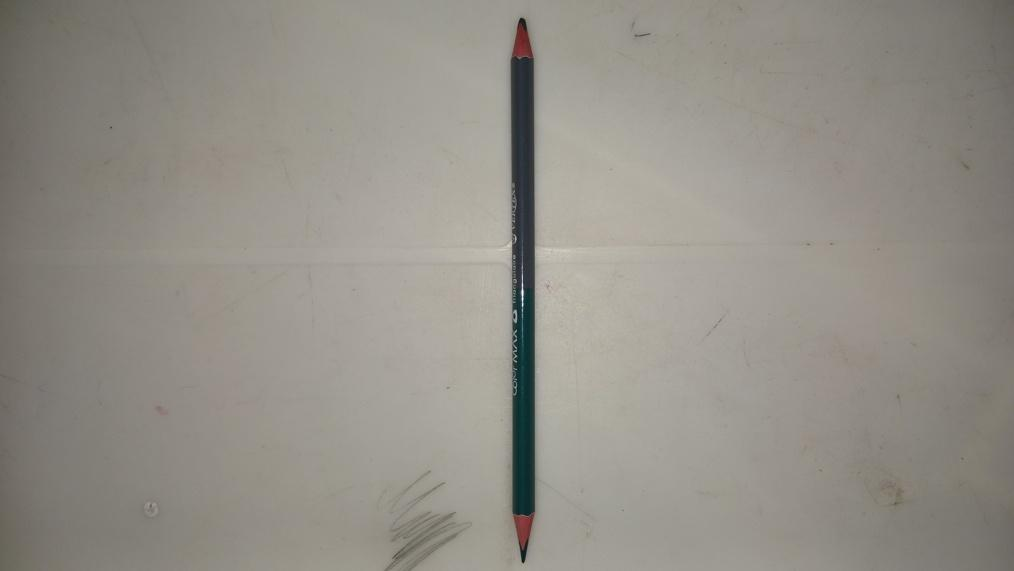Pencil: (509, 19, 538, 564)
